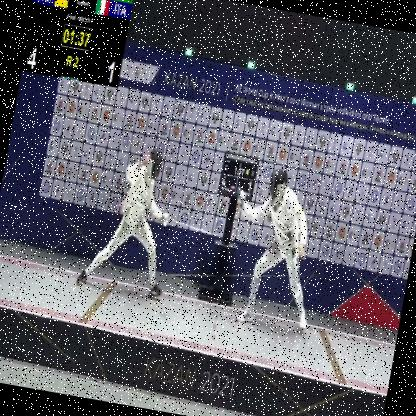fencer: (210, 160, 345, 350), (68, 132, 191, 308)
